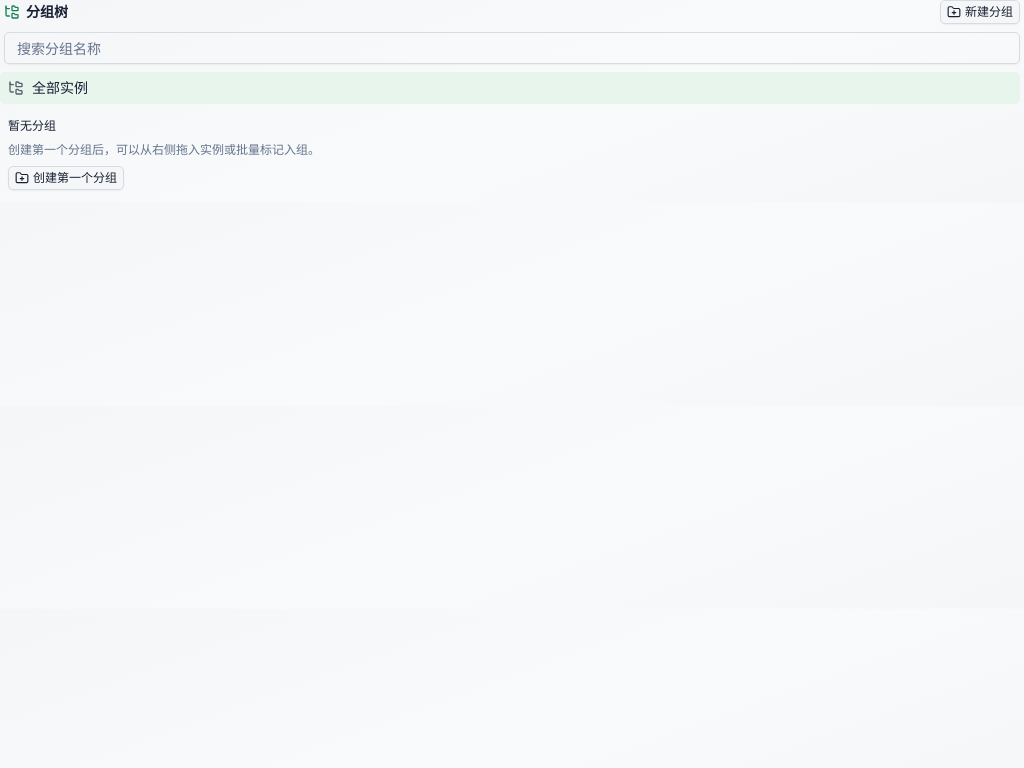
InstanceGroupTree › 空态提供创建第一个分组 CTA
The image size is (1024, 768).
Expected: the text "暂无分组" is shown, [8,117,56,134]
Click the button "创建第一个分组".
click(66, 178)  # box [8,166,124,190]
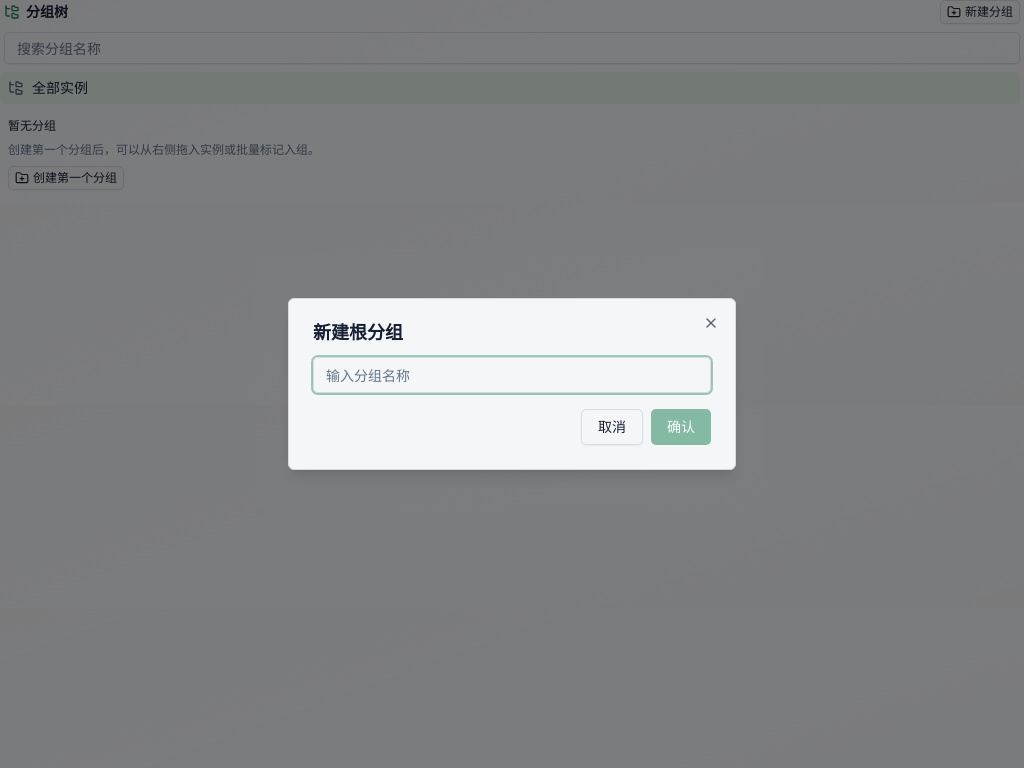
Expected: the dialog "新建根分组" is shown, [288,298,736,470]
